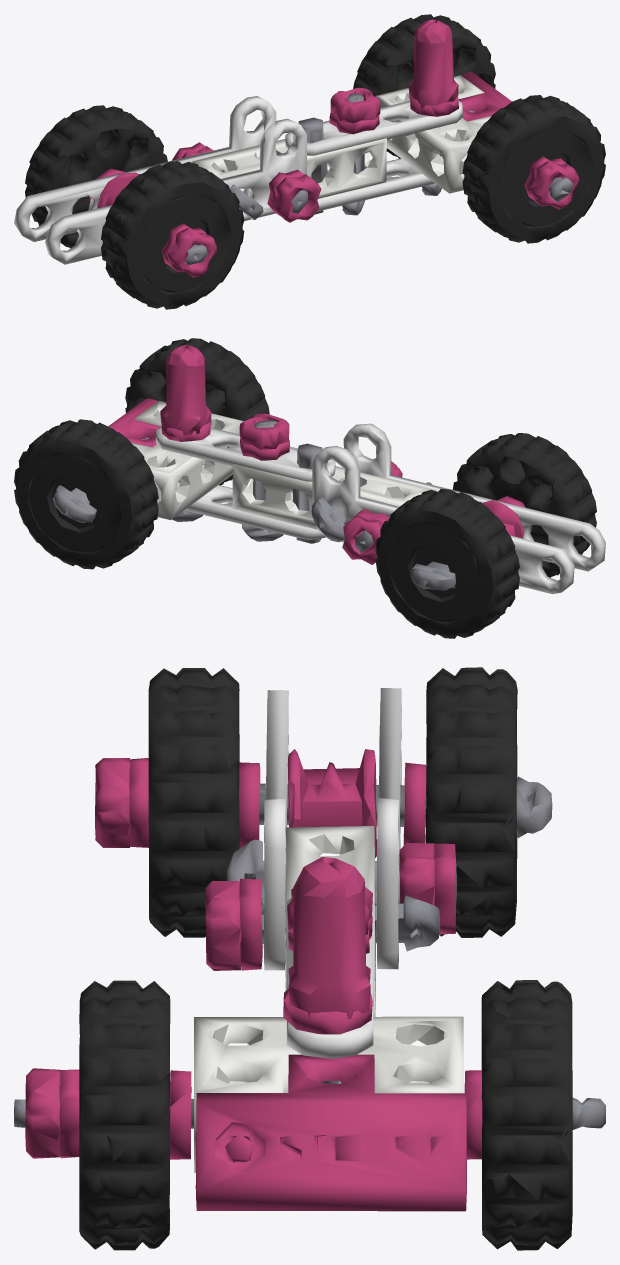
The model's file is Milestone5.fbx.
3 views of the same model, one above another, from view 1: azimuth 30°, elevation 25°; view 2: azimuth 150°, elevation 25°; view 3: azimuth 270°, elevation 25° (orthographic). The views are drawn at different scales.
Visible parts, largest first — view 1: Brace STR STD ERR BU04x01x00.25 - SPN-BRC-0003 (stemfie.org); view 2: Brace STR STD ERR BU04x01x00.25 - SPN-BRC-0003 (stemfie.org); view 3: Brace STR STD ERR BU04x01x00.25 - SPN-BRC-0003 (stemfie.org).
Part boxes in pixels (box(x1,y1,x2,y2)): Brace STR STD ERR BU04x01x00.25 - SPN-BRC-0003 (stemfie.org): box(14, 14, 605, 309); Brace STR STD ERR BU04x01x00.25 - SPN-BRC-0003 (stemfie.org): box(14, 338, 605, 638); Brace STR STD ERR BU04x01x00.25 - SPN-BRC-0003 (stemfie.org): box(14, 667, 605, 1250).
Bounding box in the file's own units: 14865 × 5153 × 8193.
